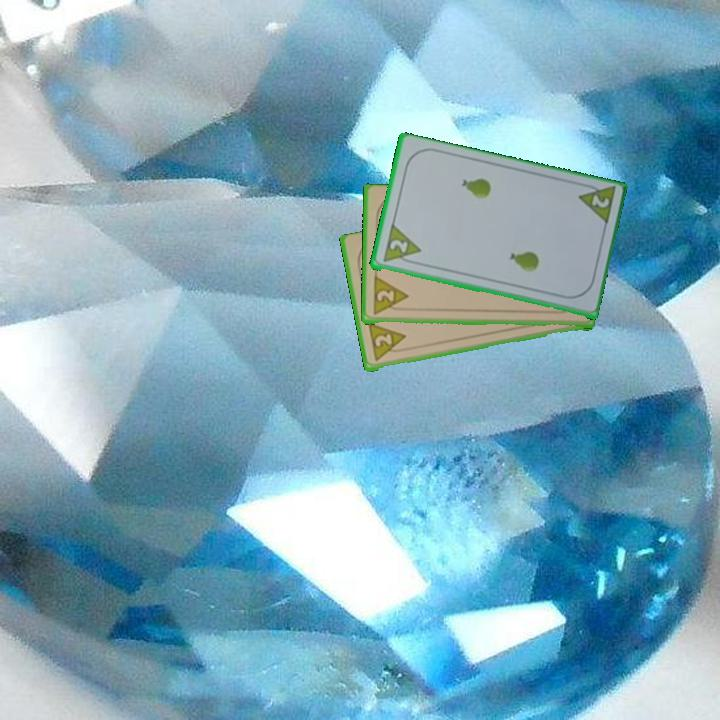2p: (574, 180, 618, 229), (365, 321, 410, 364), (369, 275, 410, 318), (386, 236, 410, 257)
